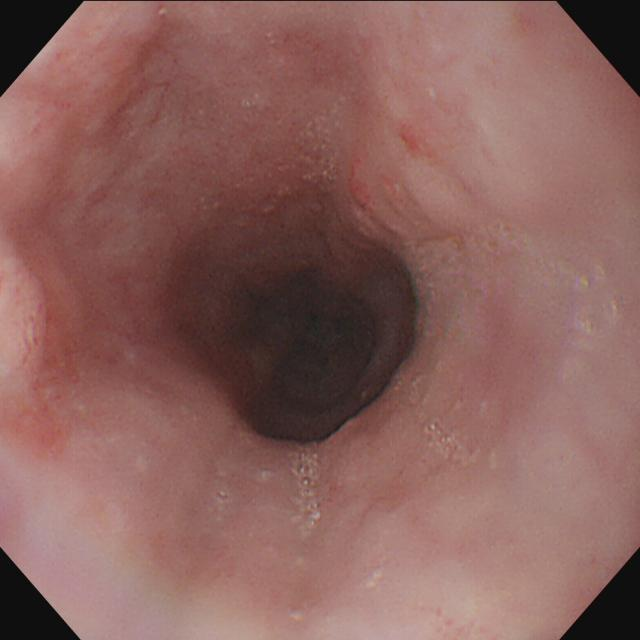E: (235, 242, 420, 448)
T: (296, 444, 327, 536), (426, 419, 456, 454)
